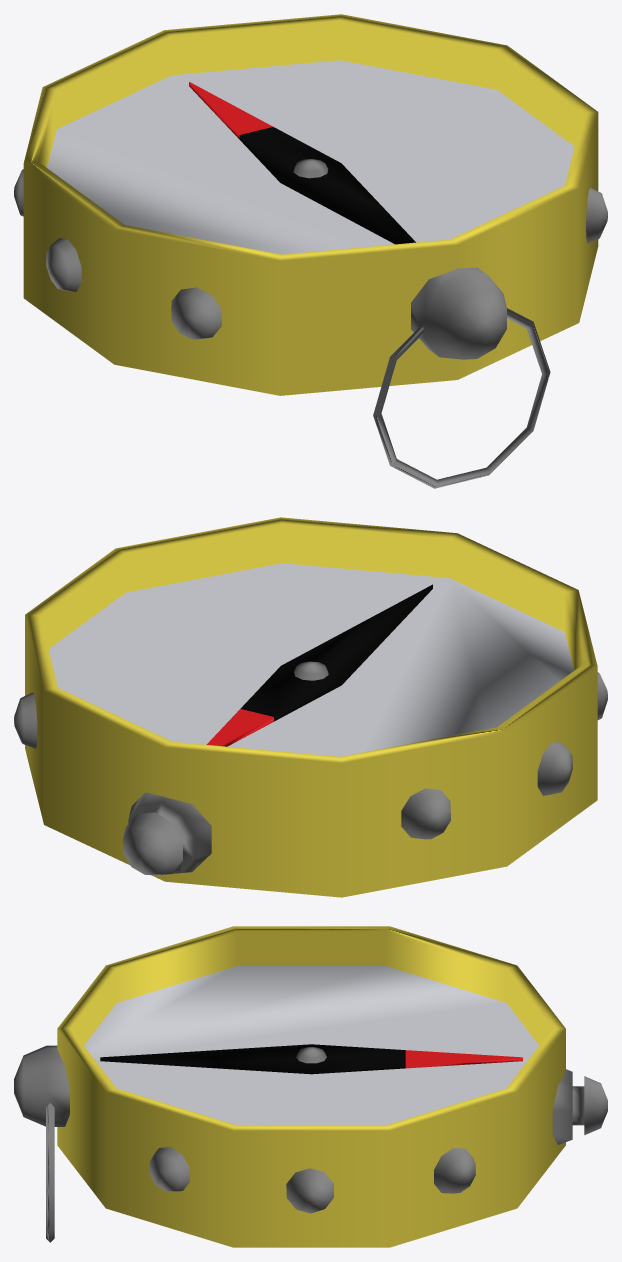
Rendered from CompassWASD.fbx.
3 renders of one model, top to bottom at view 1: azimuth 30°, elevation 25°; view 2: azimuth 150°, elevation 25°; view 3: azimuth 270°, elevation 25°, orthographic. The views are drawn at different scales.
Parts seen in each view (by area): view 1: Compass_Body, Compass_Arrow; view 2: Compass_Body, Compass_Arrow; view 3: Compass_Body, Compass_Arrow.
Part boxes in pixels (<box>): Compass_Body: <box>14,14,607,488</box>; Compass_Arrow: <box>189,82,415,244</box>; Compass_Body: <box>14,517,607,897</box>; Compass_Arrow: <box>206,584,432,746</box>; Compass_Body: <box>14,926,607,1247</box>; Compass_Arrow: <box>100,1044,522,1074</box>.
Size of the model in its own units: 30.34 by 13.11 by 34.85.
